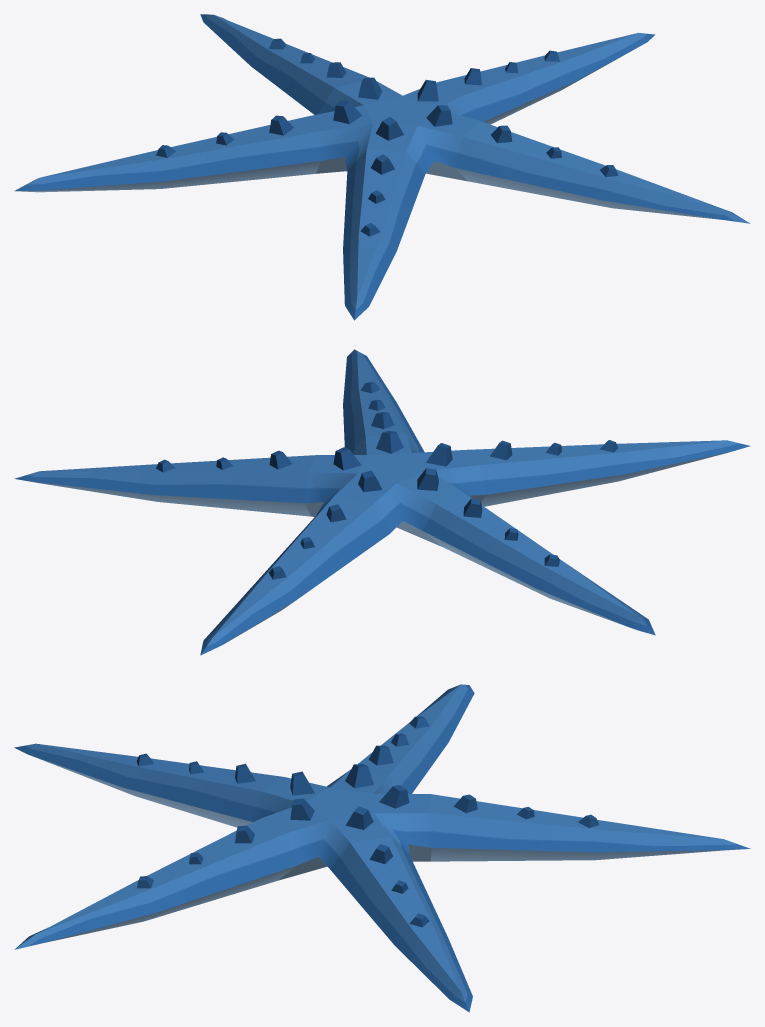
File: SM_Prop_Starfish_03.glb
3 views of the same model, one above another, from view 1: azimuth 30°, elevation 25°; view 2: azimuth 150°, elevation 25°; view 3: azimuth 270°, elevation 25° (orthographic). The views are drawn at different scales.
Visible parts, largest first — view 1: SM_Prop_Starfish_03; view 2: SM_Prop_Starfish_03; view 3: SM_Prop_Starfish_03.
Part boxes in pixels (x1,y1,x2,y2): SM_Prop_Starfish_03: [14, 14, 750, 320]; SM_Prop_Starfish_03: [14, 349, 750, 655]; SM_Prop_Starfish_03: [14, 684, 750, 1012].
Bounding box in the file's own units: 0.462 × 0.0469 × 0.4394.
1 material, 1 textured.
